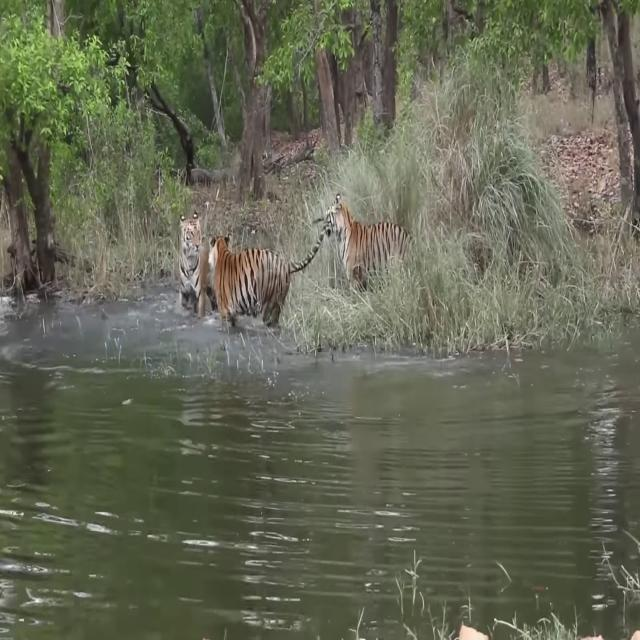tiger: (208, 216, 326, 329), (325, 193, 417, 292), (179, 210, 207, 323)
